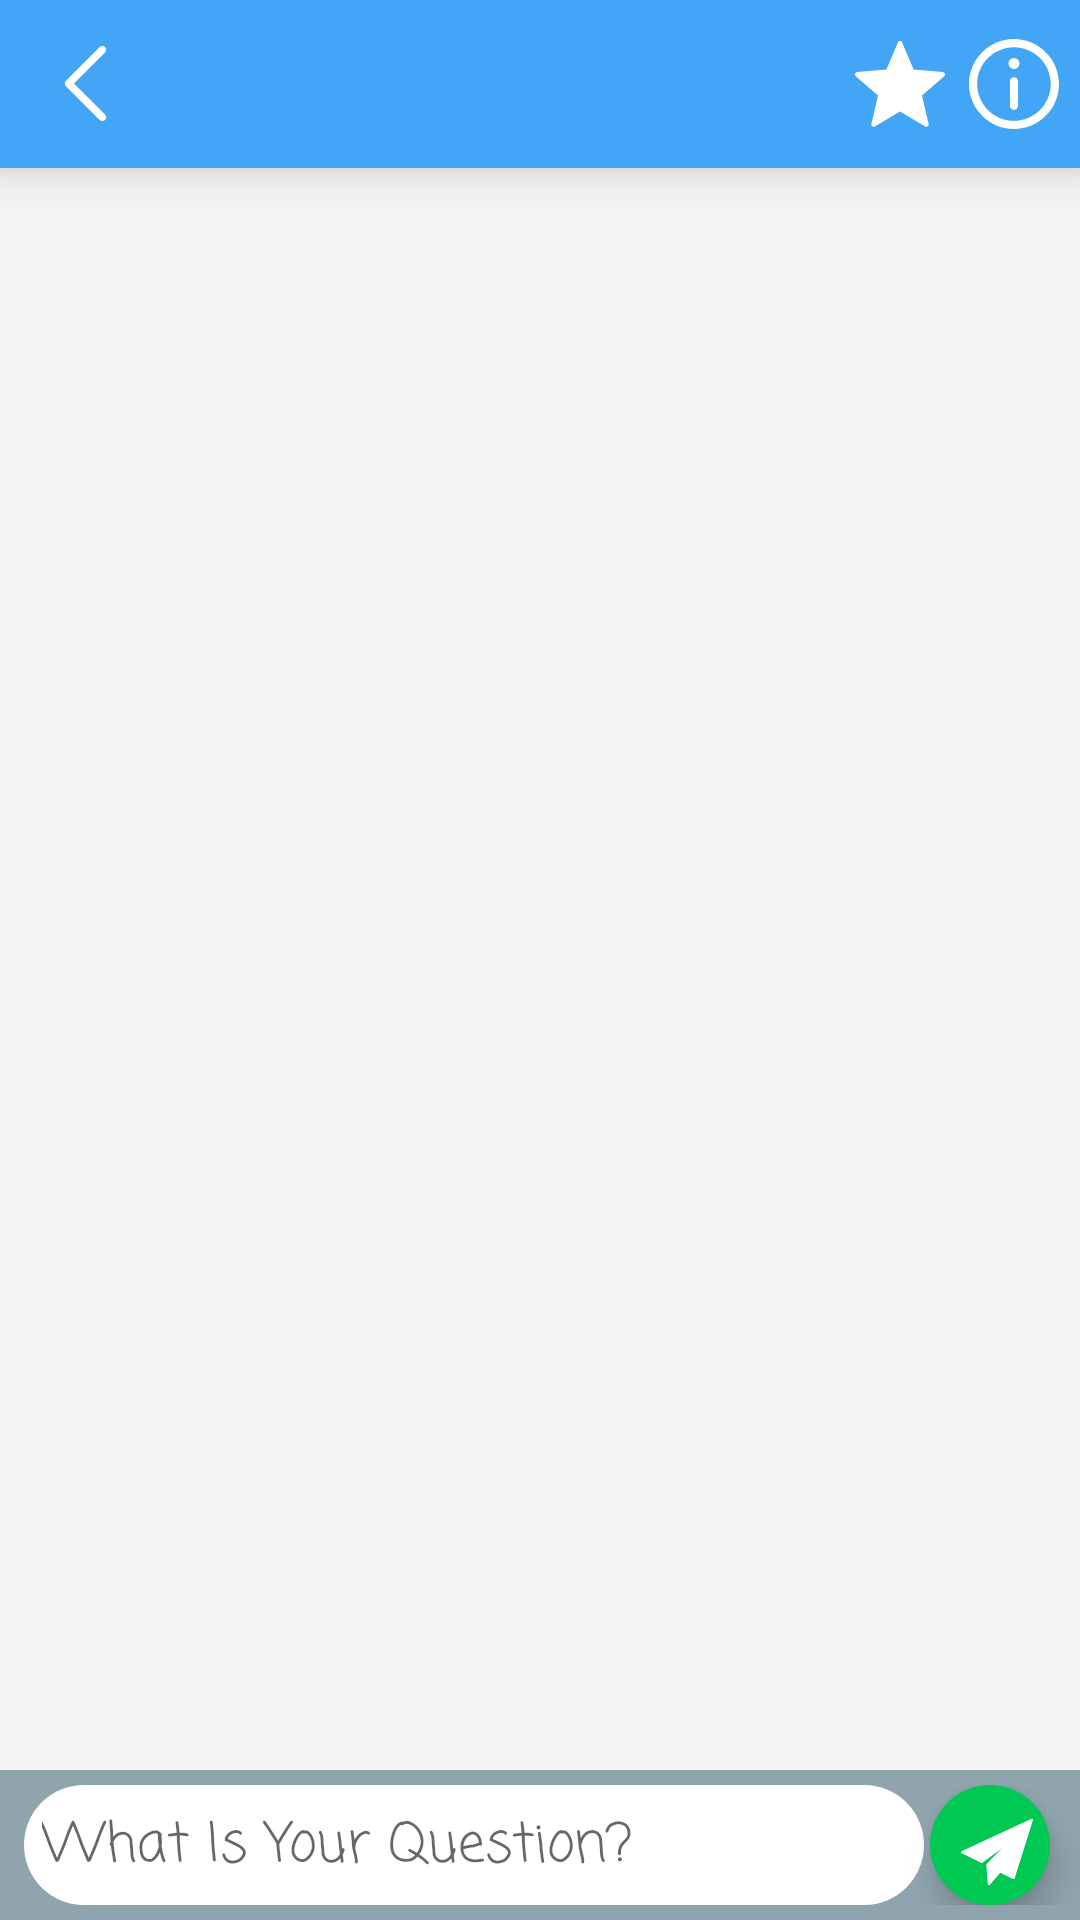

Where icons sit on this 1080x1920 app screen, as (left=x1, top=y1, right=x2, bottom=y2):
back: (left=65, top=46, right=106, bottom=121)
information: (left=969, top=39, right=1059, bottom=129)
sent mail: (left=930, top=1785, right=1050, bottom=1905)
star: (left=855, top=41, right=945, bottom=127)
